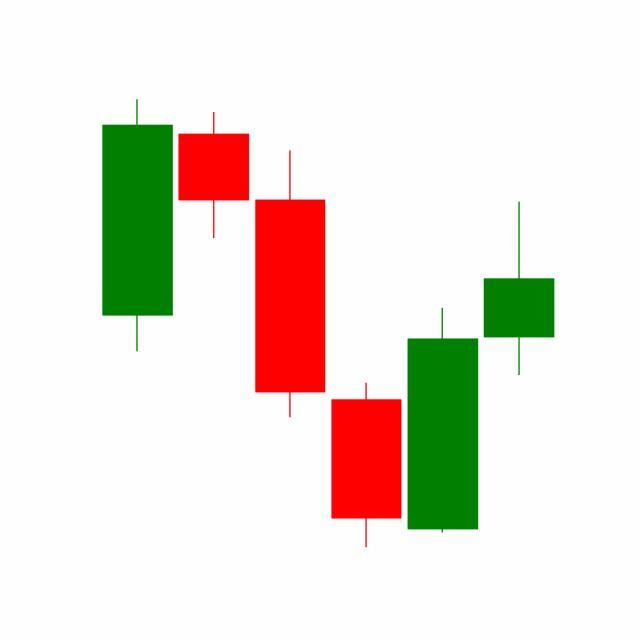Three Outside Up-Down: (326, 197, 555, 548)
